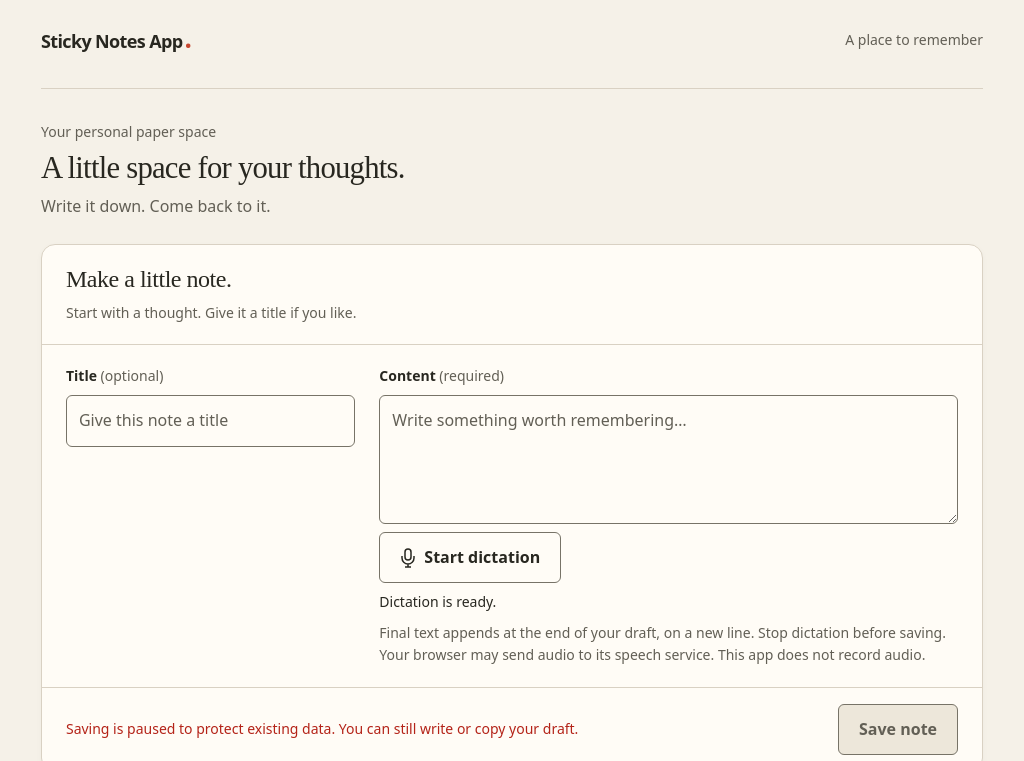
Test: create / persist / display / remount › does not show a false empty state after read exceptions; retry can safely load valid data without clearing a draft
The image size is (1024, 761).
In the text box labelled "Content (required)": (669, 460) [379, 395, 958, 524], type "Keep my draft"
(page scrolled)
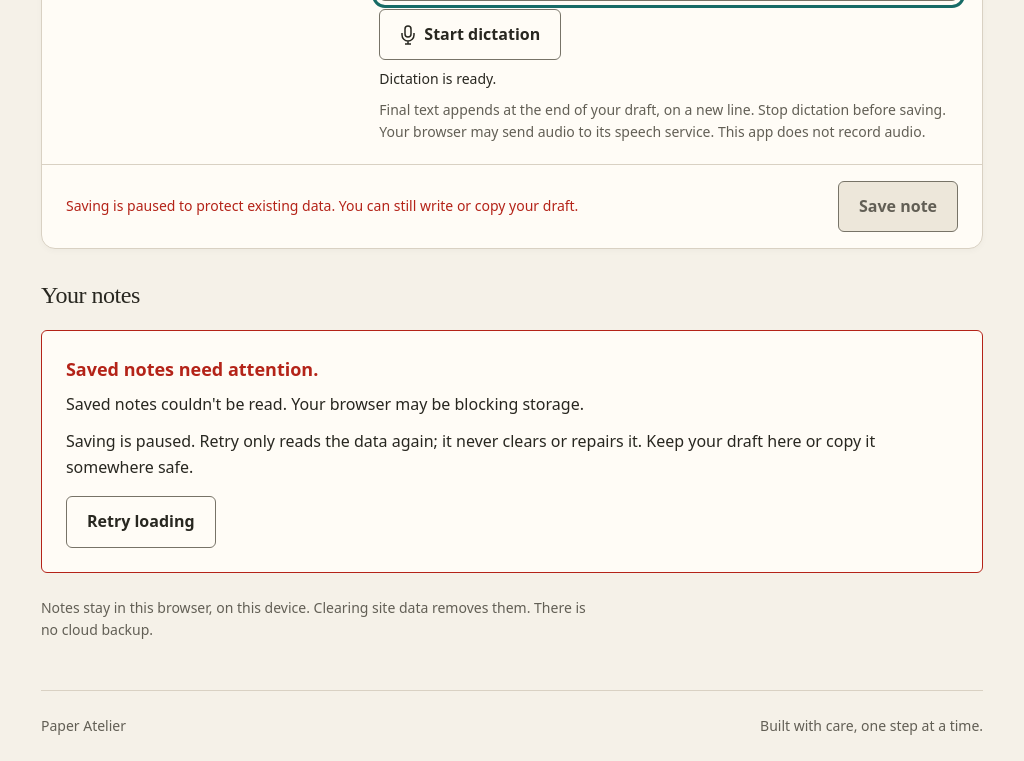
Click the button "Retry loading": (141, 522) [66, 496, 216, 548]
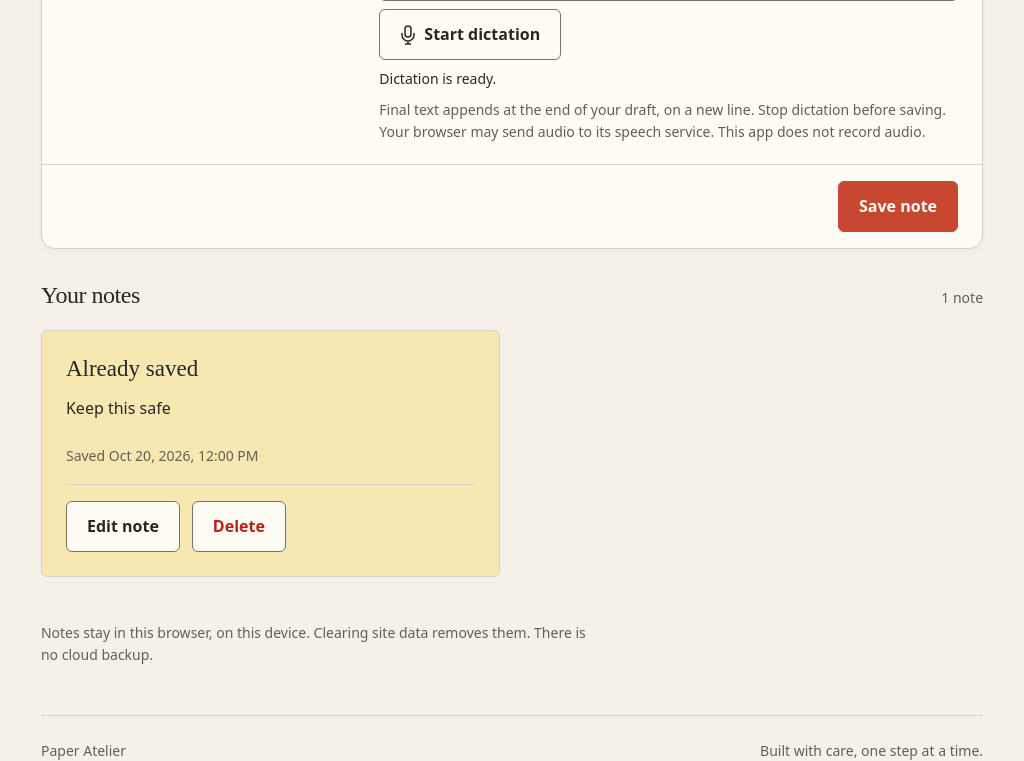
Expected: the element "Already saved" is shown, [41, 330, 500, 577]
Expected: the button "Save note" is enabled, [838, 180, 958, 232]
Expected: the message is gone
